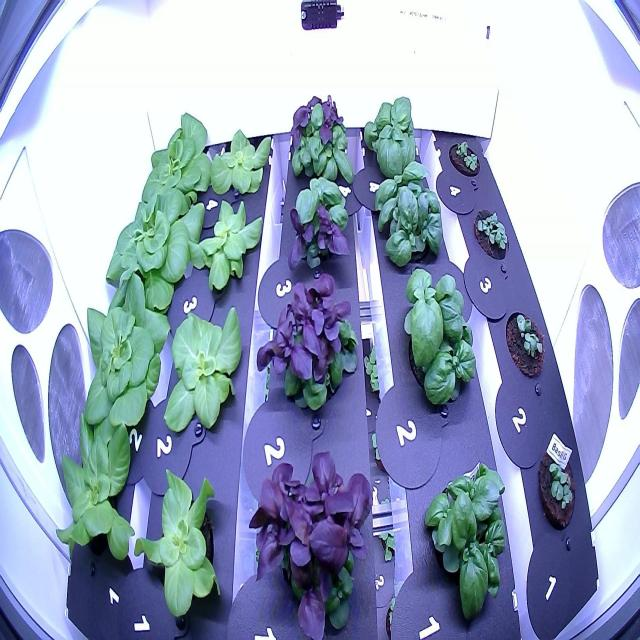germination: (532, 434, 582, 539), (500, 301, 550, 388), (468, 200, 512, 268), (444, 125, 484, 186)
young: (76, 263, 174, 451), (131, 454, 226, 634), (101, 178, 207, 333), (43, 407, 141, 572), (160, 288, 250, 463), (183, 192, 268, 314), (135, 103, 216, 230), (202, 115, 276, 216)
